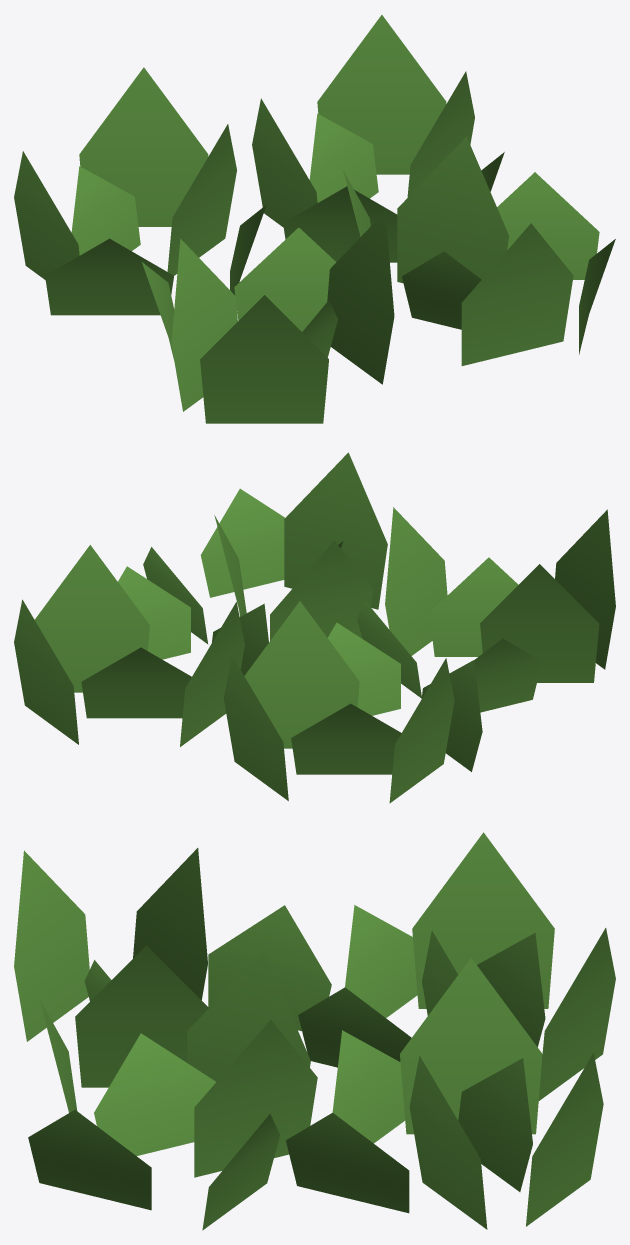
Rendered from grass-4.glb.
The picture shows the model from 3 angles, top to bottom: view 1: azimuth 30°, elevation 25°; view 2: azimuth 150°, elevation 25°; view 3: azimuth 270°, elevation 25°; orthographic projection. The views are drawn at different scales.
Visible parts, largest first — view 1: grass_leafsLarge; view 2: grass_leafsLarge; view 3: grass_leafsLarge.
Part boxes in pixels (left/top/right/bottom): grass_leafsLarge: left=14, top=15, right=615, bottom=423; grass_leafsLarge: left=14, top=452, right=615, bottom=803; grass_leafsLarge: left=14, top=832, right=615, bottom=1230.
Size of the model in its own units: 0.8349 by 0.25 by 0.8549.
